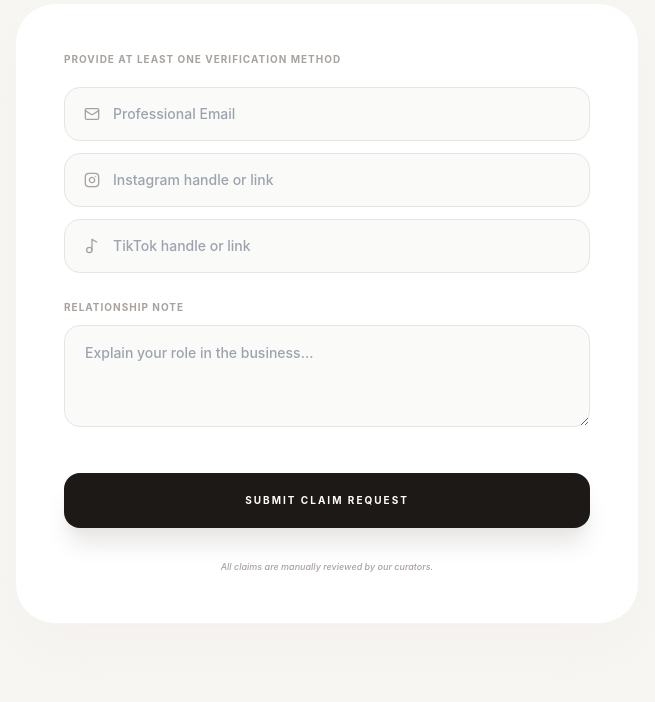
Test: ClaimPageScreen › requires one contact method before submission
(page scrolled)
Click the button "Submit Claim Request": [327, 501] box 64,473 -> 590,528
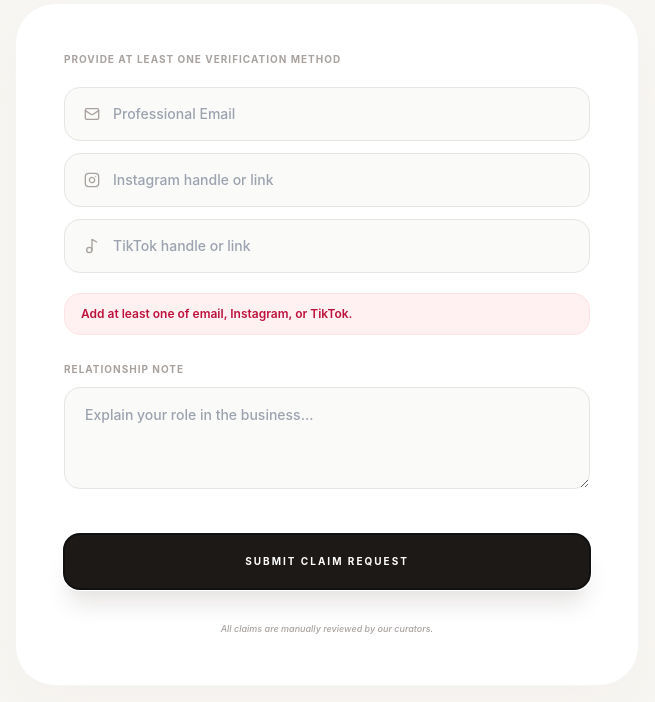
Expected: the text "Add at least one of email, Instagram, or TikTok." is shown, 64,293 -> 590,335
